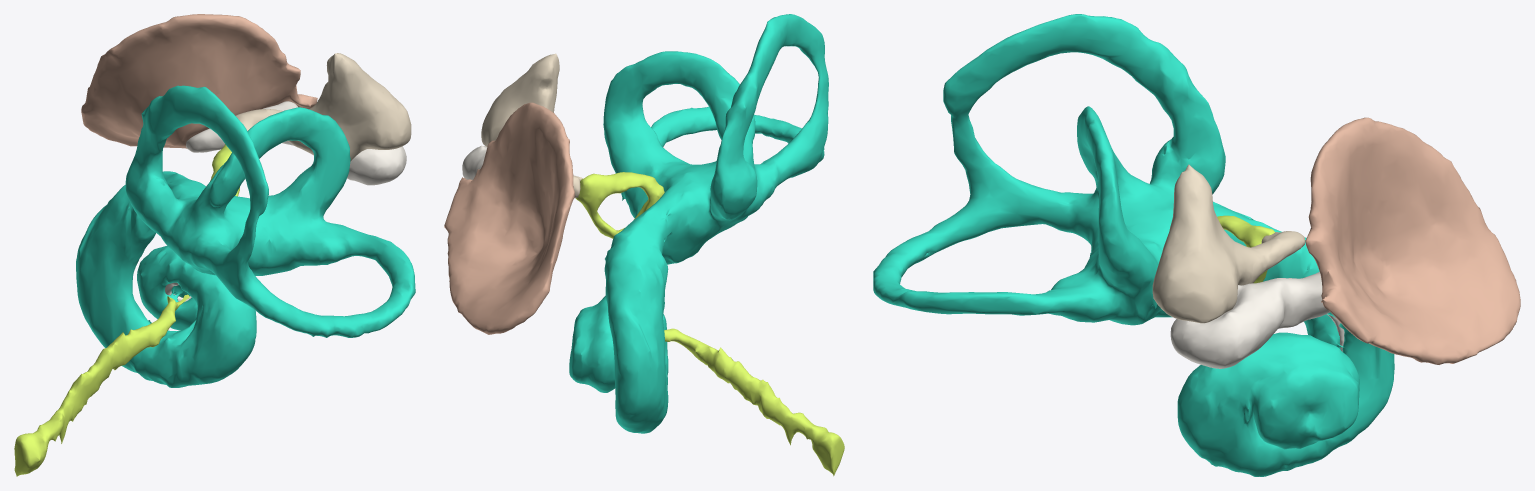
The model's file is inner-ear.glb.
3 views of the same model, side by side, from view 1: azimuth 30°, elevation 25°; view 2: azimuth 150°, elevation 25°; view 3: azimuth 270°, elevation 25° (orthographic). The views are drawn at different scales.
Visible parts, largest first — view 1: Labyrinth, TympanicMembrane, Incus, CochlearNerve, Malleus; view 2: Labyrinth, TympanicMembrane, CochlearNerve, Incus, Stapes, Malleus; view 3: Labyrinth, TympanicMembrane, Incus, Malleus, Stapes.
Boxes of the visible parts, box(x1,y1,x2,y2) form: Labyrinth: box(76, 85, 415, 387); TympanicMembrane: box(81, 14, 317, 148); Incus: box(235, 53, 411, 161); CochlearNerve: box(14, 294, 189, 476); Malleus: box(186, 101, 406, 185); Labyrinth: box(569, 14, 828, 433); TympanicMembrane: box(444, 102, 574, 334); CochlearNerve: box(664, 328, 844, 476); Incus: box(481, 53, 582, 198); Stapes: box(575, 172, 664, 238); Malleus: box(462, 145, 487, 179); Labyrinth: box(873, 14, 1394, 476); TympanicMembrane: box(1305, 117, 1520, 364); Incus: box(1152, 164, 1305, 323); Malleus: box(1170, 272, 1329, 368); Stapes: box(1217, 215, 1275, 283).
Size of the model in its own units: 57.52 by 57.32 by 72.11.
